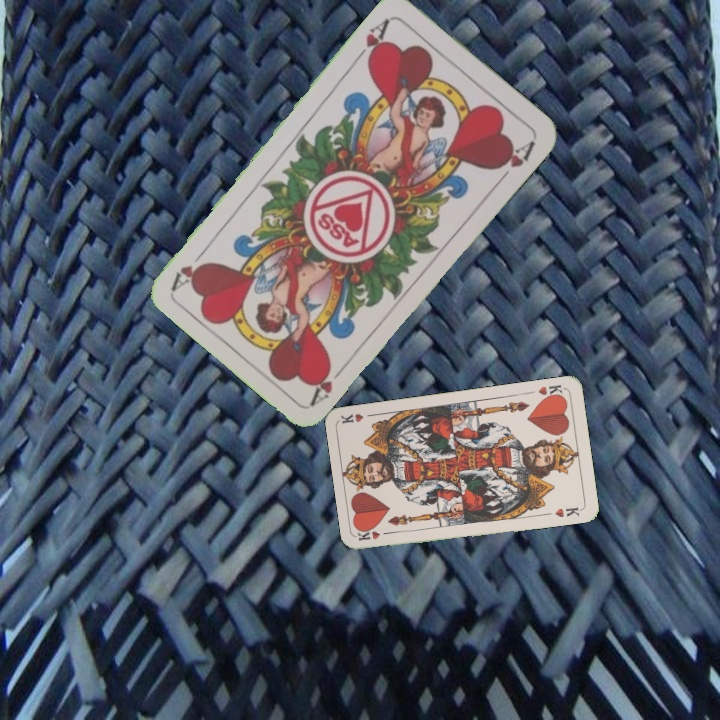HA: (306, 358, 351, 408), (351, 15, 393, 67)
HK: (526, 381, 566, 402), (355, 527, 396, 543)
